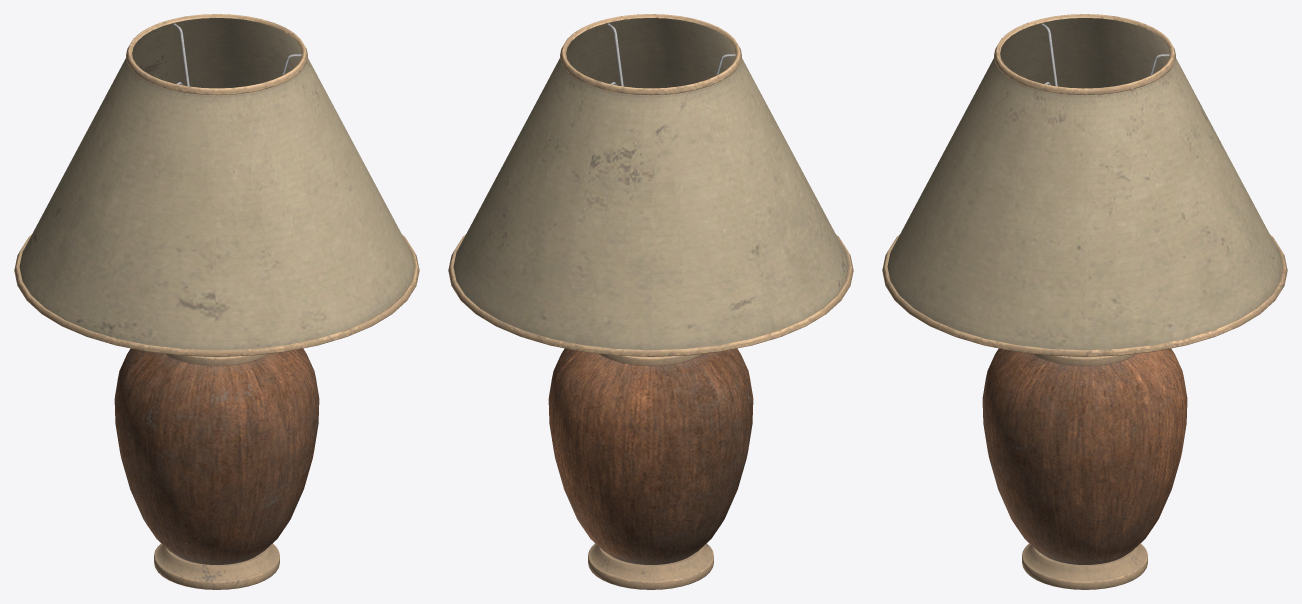
File: tableLamp05.FBX
3 renders of one model, left to right at view 1: azimuth 30°, elevation 25°; view 2: azimuth 150°, elevation 25°; view 3: azimuth 270°, elevation 25°, orthographic.
Visible parts, largest first — view 1: SM_TableLamp05; view 2: SM_TableLamp05; view 3: SM_TableLamp05.
Part boxes in pixels (box(x1,y1,x2,y2)): SM_TableLamp05: box(14, 14, 419, 589); SM_TableLamp05: box(448, 14, 853, 589); SM_TableLamp05: box(882, 14, 1287, 589).
Size of the model in its own units: 45.63 by 63.66 by 45.63.
1 material, 1 textured.
